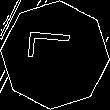L_E: (28, 37, 82, 73)
